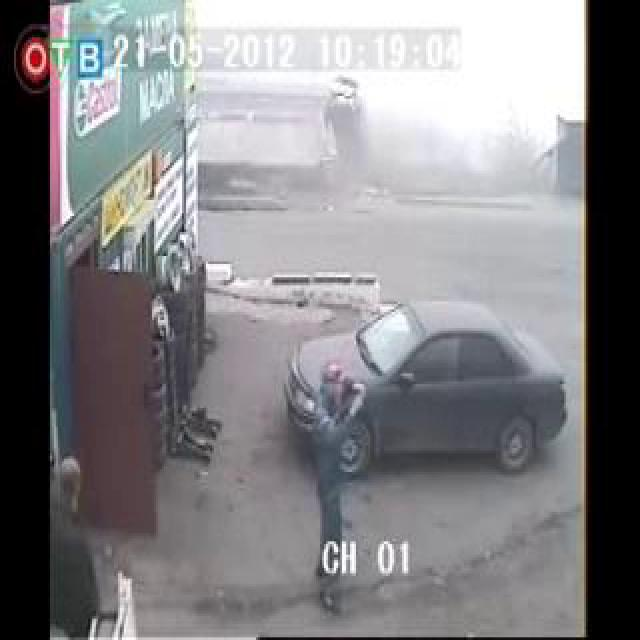road accidents: (212, 0, 577, 346)
